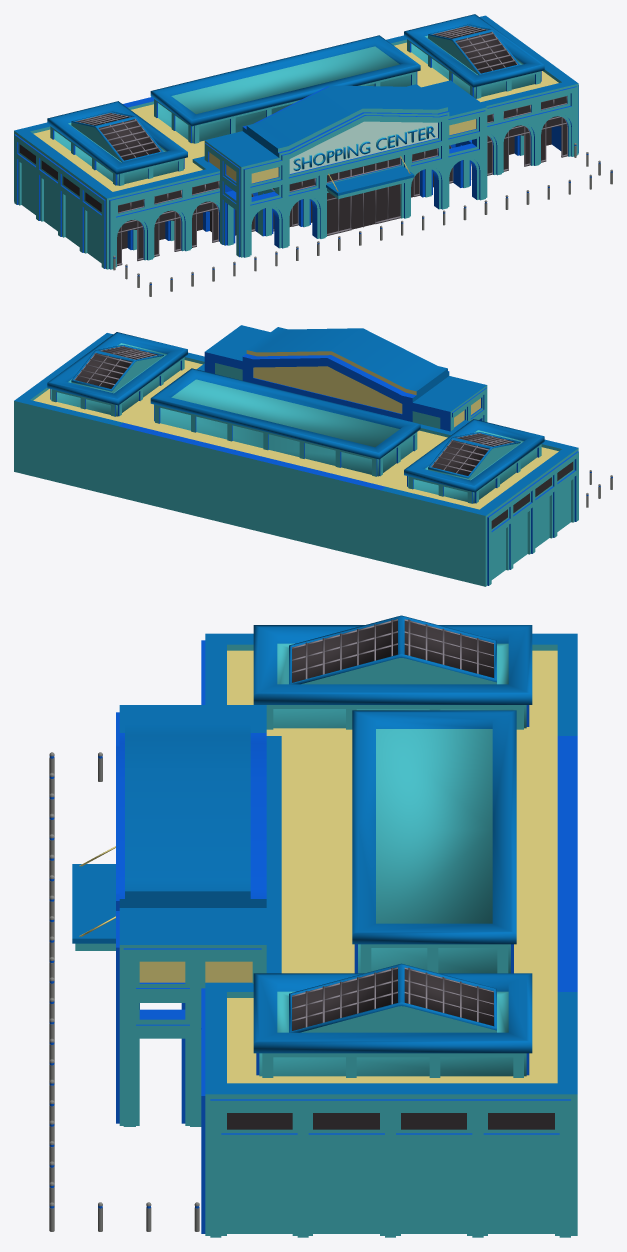
The model's file is low_poly_shopping_center.glb.
3 renders of one model, top to bottom at view 1: azimuth 30°, elevation 25°; view 2: azimuth 150°, elevation 25°; view 3: azimuth 270°, elevation 25°, orthographic. The views are drawn at different scales.
Visible parts, largest first — view 1: ShoppingCenterBuilding, ShoppingCenterBuilding.001, ShoppingCenterSticks; view 2: ShoppingCenterBuilding, ShoppingCenterBuilding.001; view 3: ShoppingCenterBuilding, ShoppingCenterBuilding.001, ShoppingCenterSticks.
Boxes of the visible parts, <box> form: ShoppingCenterBuilding: <box>14,14,578,269</box>; ShoppingCenterBuilding.001: <box>14,85,578,268</box>; ShoppingCenterSticks: <box>113,143,612,296</box>; ShoppingCenterBuilding: <box>14,325,578,586</box>; ShoppingCenterBuilding.001: <box>487,451,578,585</box>; ShoppingCenterBuilding: <box>72,615,577,1235</box>; ShoppingCenterBuilding.001: <box>210,1099,570,1237</box>; ShoppingCenterSticks: <box>49,752,199,1231</box>.
Size of what is drawn, in the model's own units: 18.11 by 4.31 by 8.72.
Materials: 1 (1 with a texture image).
